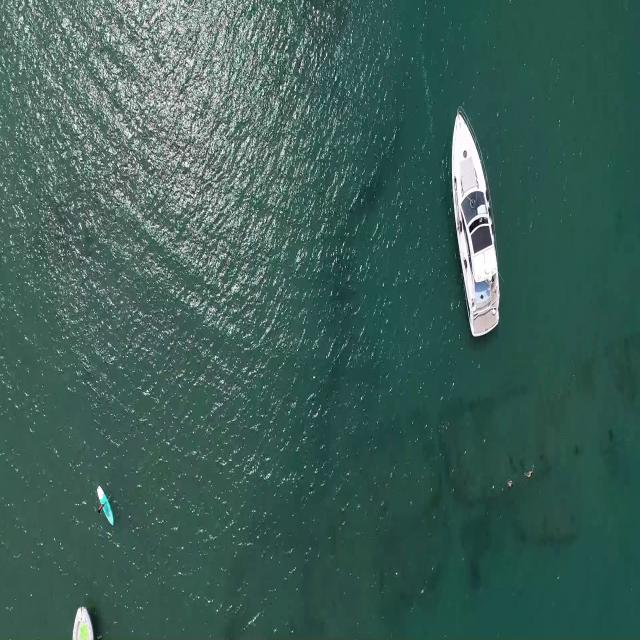boat: (448, 105, 503, 343)
person: (523, 464, 536, 478), (96, 499, 107, 514), (507, 478, 515, 488)
surfboard: (98, 482, 114, 532)
